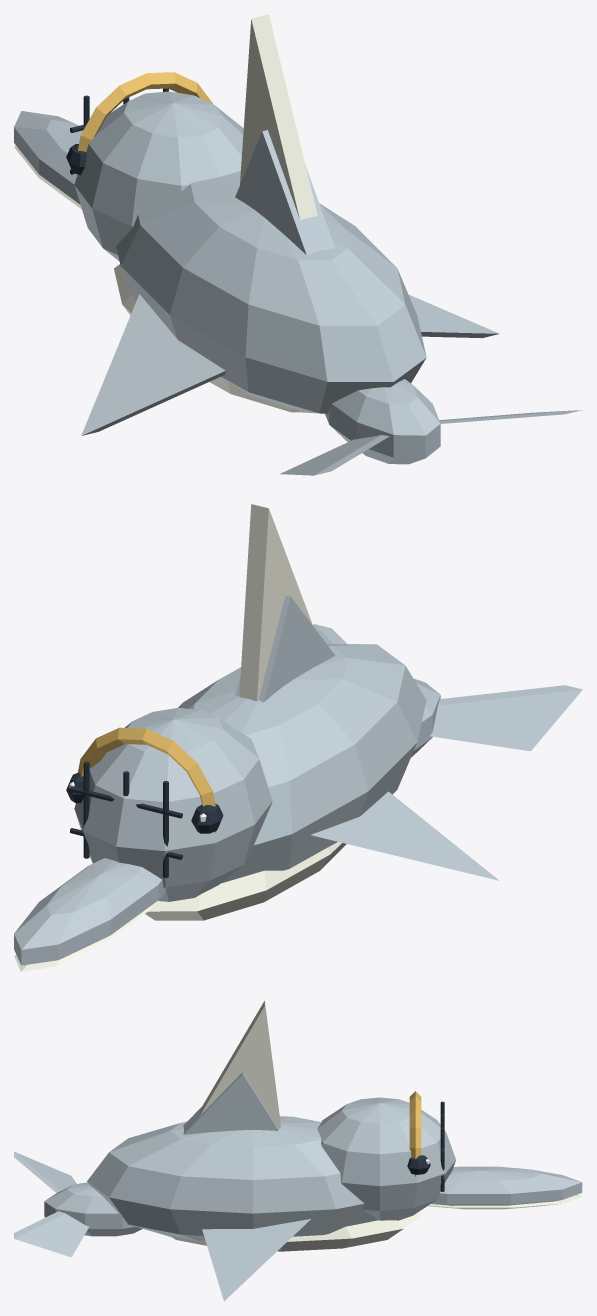
File: swordfin.glb
3 views of the same model, one above another, from view 1: azimuth 30°, elevation 25°; view 2: azimuth 150°, elevation 25°; view 3: azimuth 270°, elevation 25° (orthographic). The views are drawn at different scales.
Parts seen in each view (by area): view 1: DolphinBody.006, DolphinForehead.006, FlipperLeft.006, Blade dorsal, Tail stem.006, DorsalFin.006, Distinct dolphin beak.006, Fencing mask rim, FlipperRight.006, TailFlukeLeft.006, Pale belly.006, TailFlukeRight.006; view 2: DolphinBody.006, DolphinForehead.006, Distinct dolphin beak.006, Blade dorsal, TailFlukeLeft.006, FlipperLeft.006, Pale belly.006, DorsalFin.006, Fencing mask rim, Tail stem.006, Lower smiling jaw.006, Friendly dark eye.012; view 3: DolphinBody.006, DolphinForehead.006, Distinct dolphin beak.006, FlipperRight.006, Blade dorsal, DorsalFin.006, Tail stem.006, Pale belly.006, TailFlukeRight.006, TailFlukeLeft.006, Fencing mask rim, Lower smiling jaw.006.
Part boxes in pixels (left/top/right/bottom): DolphinBody.006: left=116, top=171, right=426, bottom=413; DolphinForehead.006: left=74, top=91, right=243, bottom=261; FlipperLeft.006: left=81, top=294, right=225, bottom=435; Blade dorsal: left=240, top=14, right=317, bottom=219; Tail stem.006: left=325, top=379, right=440, bottom=464; DorsalFin.006: left=235, top=130, right=334, bottom=255; Distinct dolphin beak.006: left=14, top=111, right=83, bottom=204; Fencing mask rim: left=77, top=72, right=212, bottom=177; FlipperRight.006: left=408, top=294, right=499, bottom=338; TailFlukeLeft.006: left=280, top=435, right=389, bottom=475; Pale belly.006: left=114, top=264, right=300, bottom=412; TailFlukeRight.006: left=439, top=410, right=581, bottom=423; DolphinBody.006: left=178, top=644, right=426, bottom=883; DolphinForehead.006: left=74, top=708, right=272, bottom=901; Distinct dolphin beak.006: left=14, top=858, right=165, bottom=965; Blade dorsal: left=239, top=504, right=312, bottom=701; TailFlukeLeft.006: left=430, top=685, right=582, bottom=751; FlipperLeft.006: left=311, top=791, right=499, bottom=880; Pale belly.006: left=145, top=842, right=346, bottom=920; DorsalFin.006: left=235, top=595, right=335, bottom=702; Fencing mask rim: left=77, top=727, right=216, bottom=832; Tail stem.006: left=411, top=678, right=440, bottom=757; Lower smiling jaw.006: left=14, top=901, right=157, bottom=971; Friendly dark eye.012: left=191, top=803, right=223, bottom=833; DolphinBody.006: left=87, top=1116, right=377, bottom=1241; DolphinForehead.006: left=317, top=1097, right=455, bottom=1220; Distinct dolphin beak.006: left=431, top=1166, right=582, bottom=1205; FlipperRight.006: left=202, top=1219, right=310, bottom=1301; Blade dorsal: left=199, top=1001, right=280, bottom=1128; DorsalFin.006: left=183, top=1072, right=278, bottom=1134; Tail stem.006: left=44, top=1182, right=142, bottom=1236; Pale belly.006: left=170, top=1212, right=422, bottom=1251; TailFlukeRight.006: left=14, top=1211, right=88, bottom=1257; TailFlukeLeft.006: left=14, top=1151, right=76, bottom=1193; Fencing mask rim: left=409, top=1091, right=421, bottom=1176; Lower smiling jaw.006: left=427, top=1194, right=582, bottom=1209.
Size of the model in its own units: 1.84 by 1.5 by 3.25.
